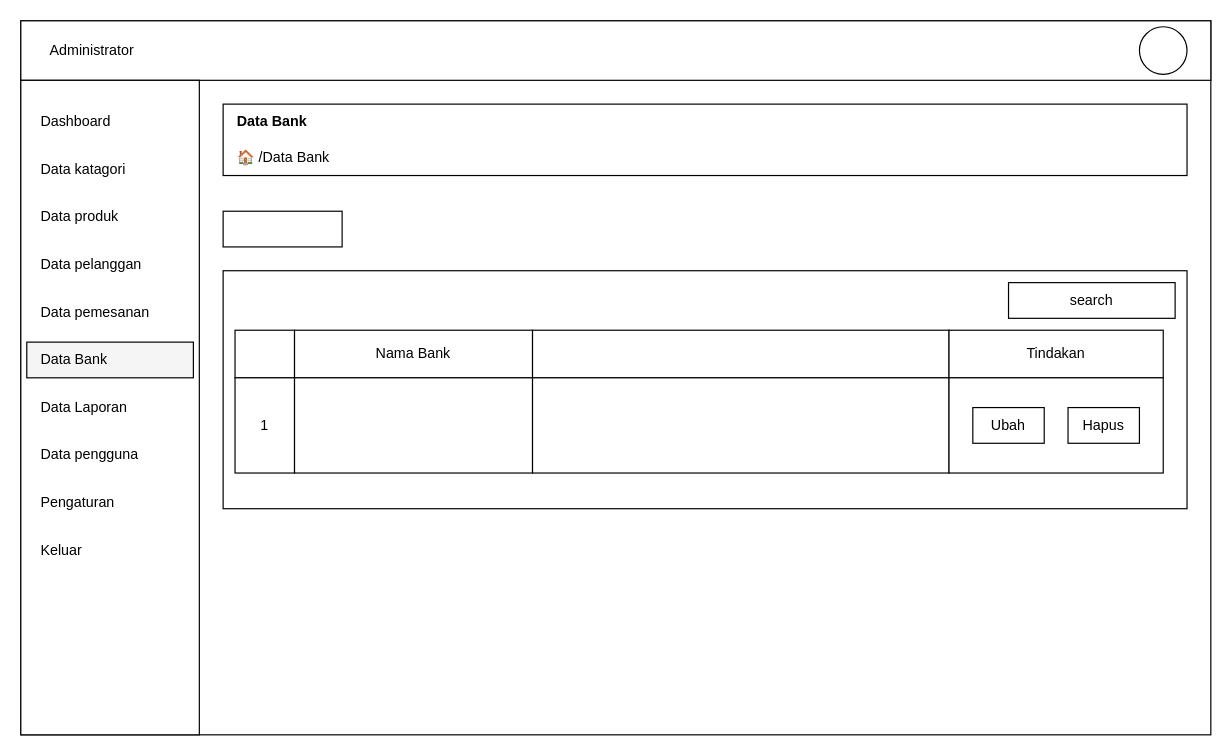
This 1232x756 diagram has some shape labels left out. The box of each missing label's shape, as (x1, y1, x2, y2) in pixels:
+ Tambah: (222, 210, 342, 247)
Judul: (531, 329, 949, 378)
NO: (234, 329, 295, 378)
profil: (1138, 26, 1187, 74)
